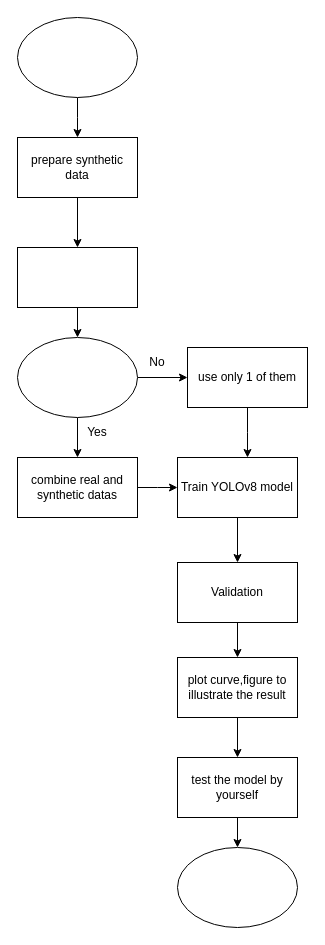
This 325x945 diagram has some shape labels left out. Here are the shapes that lost their labels. From the top down, the centre of each, then its label:
At pixel 77 57: "Begin".
At pixel 77 277: "Prepare & Label Real Data".
At pixel 77 377: "combine 2 of those data ?".
At pixel 237 887: "End".
